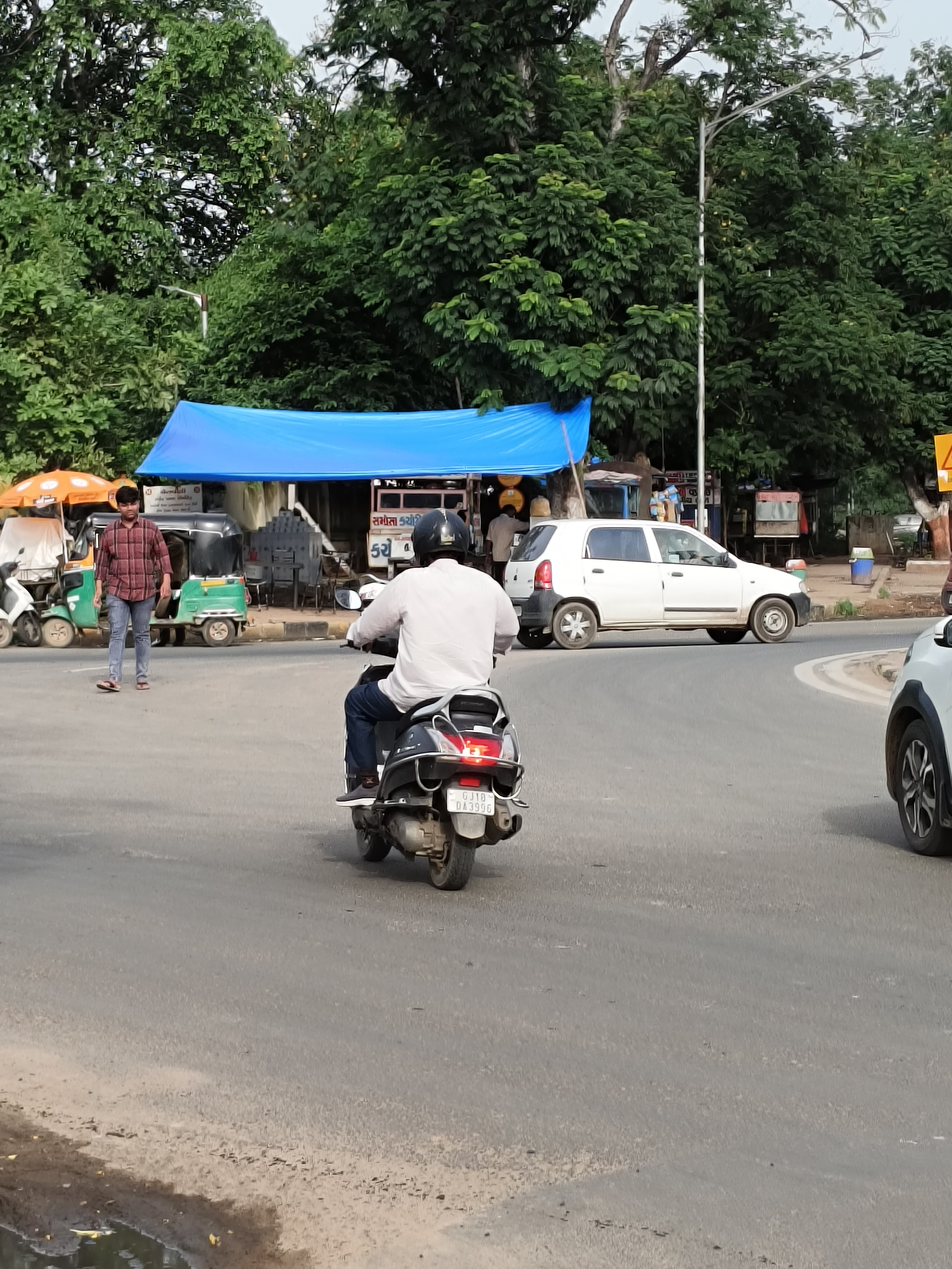BikeWithRider: (304, 490, 558, 895)
Helmet: (406, 501, 478, 584)
